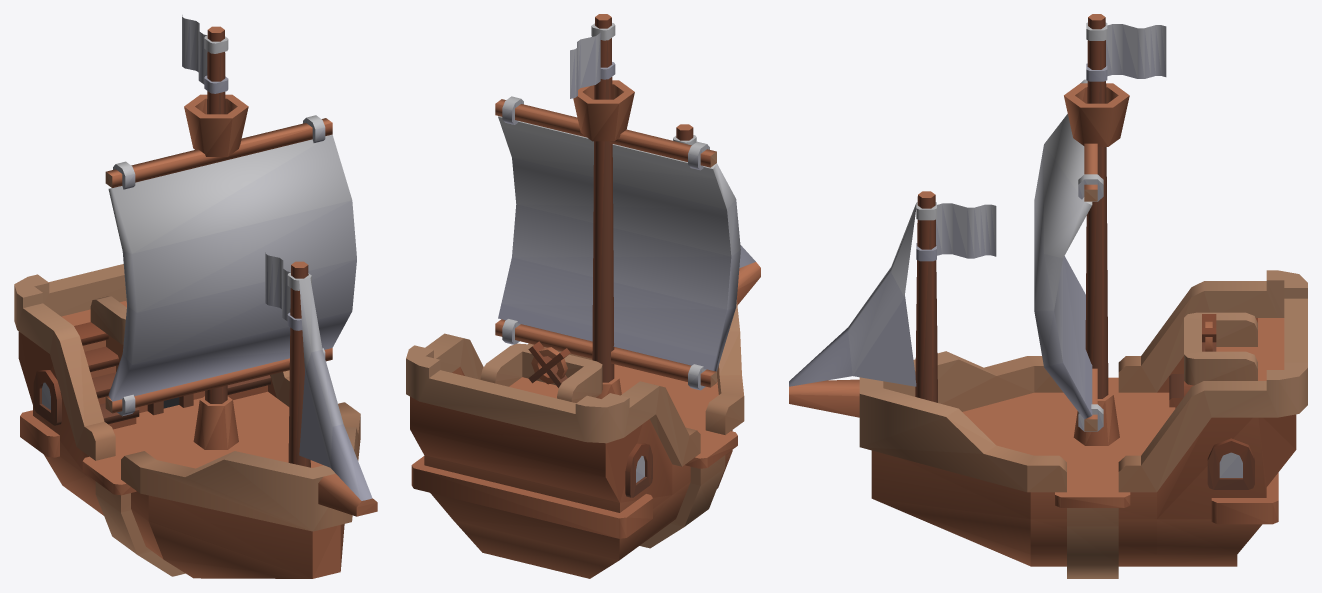
File: pirate_ship_small.glb
The picture shows the model from 3 angles, left to right: view 1: azimuth 30°, elevation 25°; view 2: azimuth 150°, elevation 25°; view 3: azimuth 270°, elevation 25°; orthographic projection. The views are drawn at different scales.
Parts seen in each view (by area): view 1: pirate_ship_small; view 2: pirate_ship_small; view 3: pirate_ship_small.
Part boxes in pixels (left/top/right/bottom): pirate_ship_small: left=14, top=15, right=377, bottom=578; pirate_ship_small: left=406, top=14, right=760, bottom=578; pirate_ship_small: left=789, top=14, right=1307, bottom=578.
Bounding box in the file's own units: 4.8 × 9.96 × 8.8.
